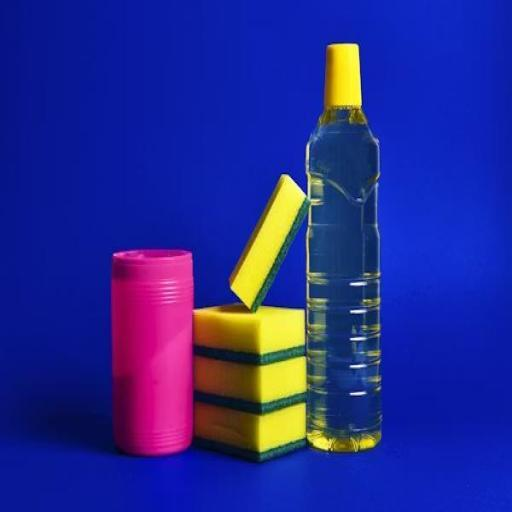bottle: (300, 31, 388, 460)
